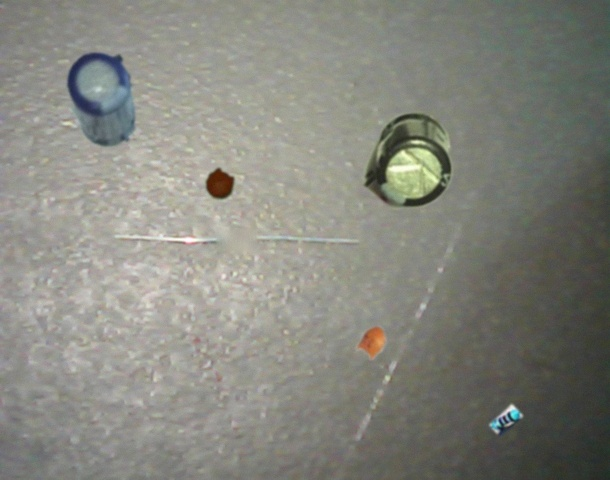capacitor: (364, 113, 452, 209), (67, 52, 136, 147), (355, 326, 387, 360), (205, 168, 234, 199)
resistor: (490, 404, 523, 437)
